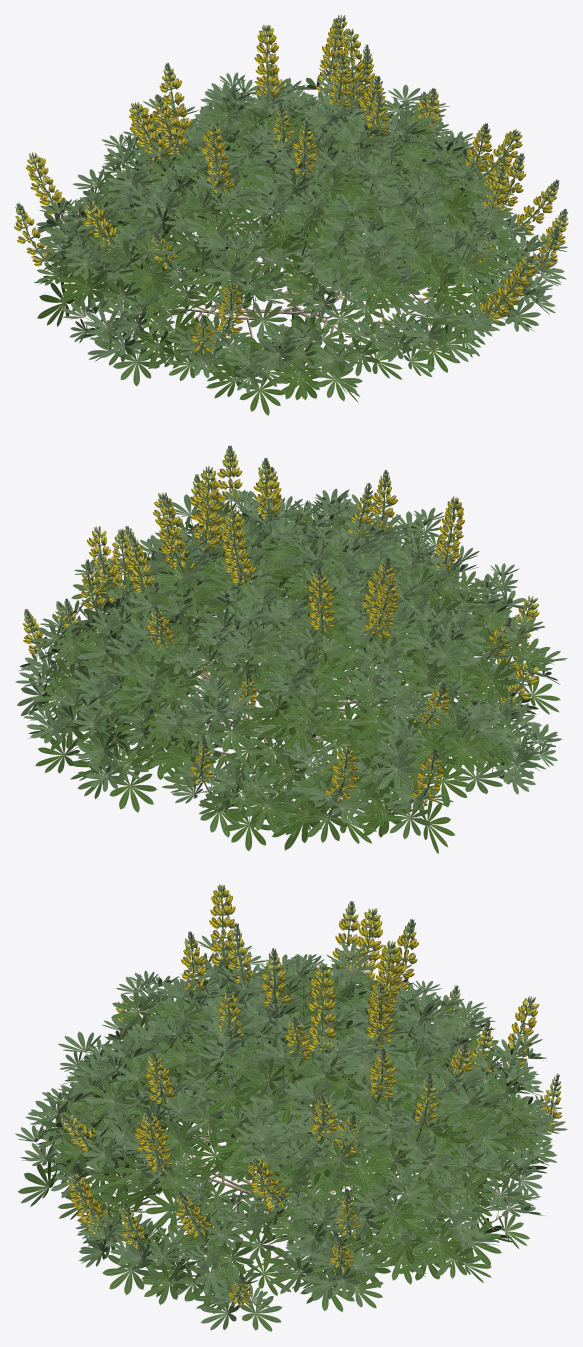
File: piorno.glb
The picture shows the model from 3 angles, top to bottom: view 1: azimuth 30°, elevation 25°; view 2: azimuth 150°, elevation 25°; view 3: azimuth 270°, elevation 25°; orthographic projection. The views are drawn at different scales.
Parts seen in each view (by area): view 1: Lupinus_arboreus_HD; view 2: Lupinus_arboreus_HD; view 3: Lupinus_arboreus_HD.
Part boxes in pixels (x1,y1,x2,y2): Lupinus_arboreus_HD: [14, 14, 568, 415]; Lupinus_arboreus_HD: [15, 445, 567, 854]; Lupinus_arboreus_HD: [15, 884, 567, 1331].
Size of the model in its own units: 1.72 by 0.9322 by 1.55.
Materials: 19 (19 with a texture image).
